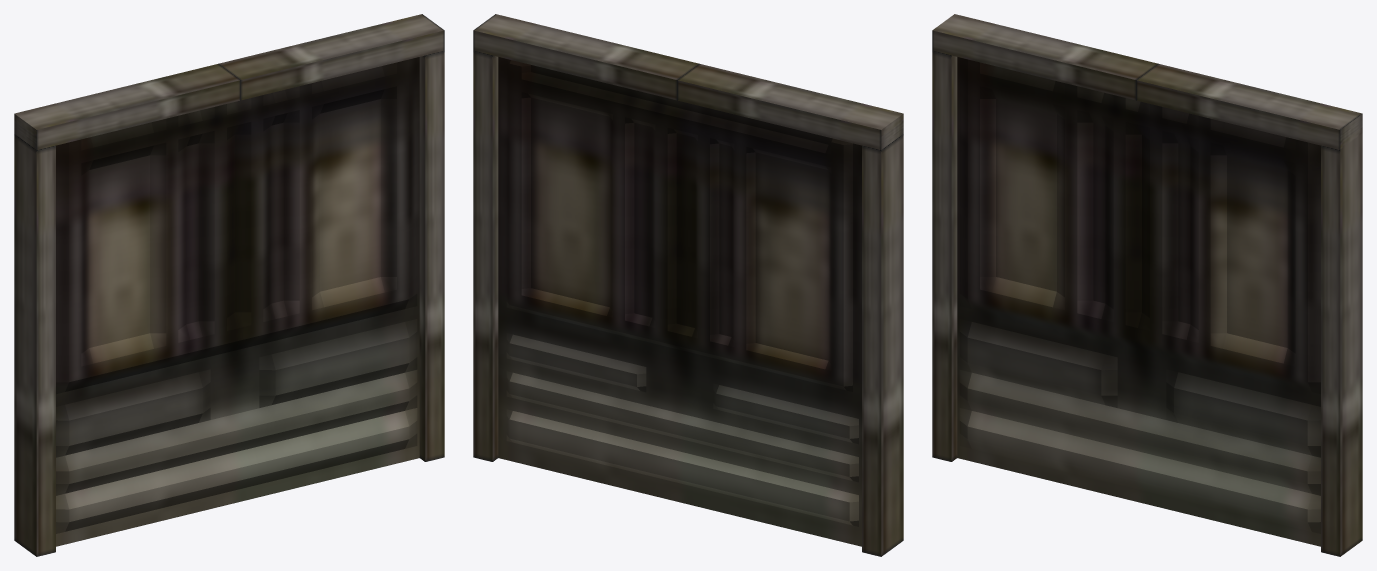
File: generic_door.fbx
3 renders of one model, left to right at view 1: azimuth 30°, elevation 25°; view 2: azimuth 150°, elevation 25°; view 3: azimuth 330°, elevation 25°, orthographic.
Visible parts, largest first — view 1: Cube; view 2: Cube; view 3: Cube.
Part boxes in pixels (x1=…): Cube: x1=14, y1=14, x2=444, y2=556; Cube: x1=473, y1=14, x2=903, y2=556; Cube: x1=932, y1=14, x2=1362, y2=556.
Bounding box in the file's own units: 420 × 420 × 40.
Materials: 2 (2 with a texture image).
